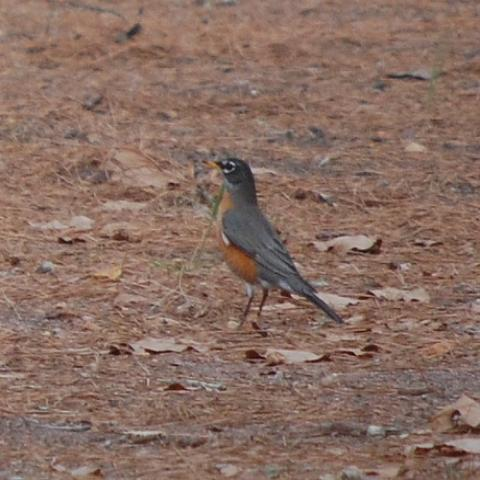bird: (198, 153, 344, 330)
